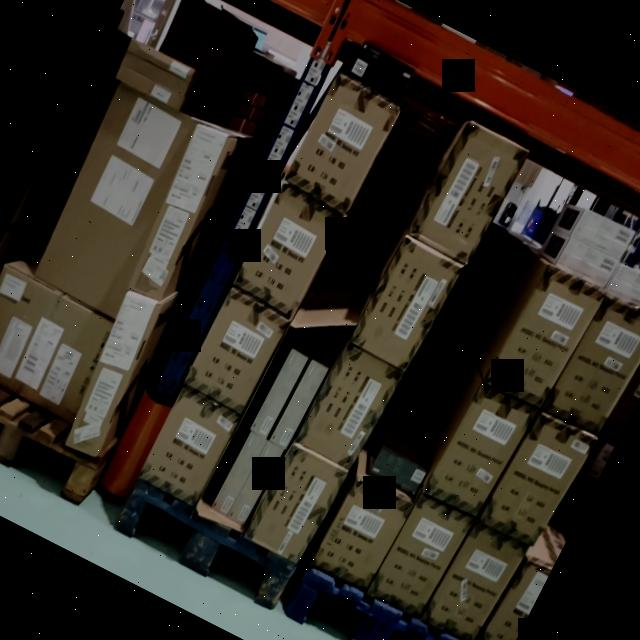box: (30, 86, 199, 310), (113, 125, 236, 316), (0, 267, 116, 419), (283, 73, 402, 213), (412, 124, 528, 266), (480, 412, 593, 552), (67, 294, 160, 457), (492, 269, 600, 407), (353, 237, 462, 373), (232, 186, 344, 316), (428, 384, 536, 518), (368, 492, 472, 623), (298, 344, 404, 471), (183, 289, 290, 413), (548, 293, 640, 434), (137, 388, 239, 507), (422, 521, 524, 640), (313, 476, 412, 594), (246, 448, 345, 566), (153, 0, 238, 79), (478, 560, 549, 640), (272, 359, 328, 448), (228, 440, 284, 528), (253, 349, 308, 436), (213, 433, 265, 515), (348, 46, 418, 106), (602, 350, 640, 440), (572, 208, 636, 260), (115, 64, 184, 112), (366, 446, 428, 498), (558, 238, 621, 289), (126, 40, 194, 84), (609, 261, 640, 315)
